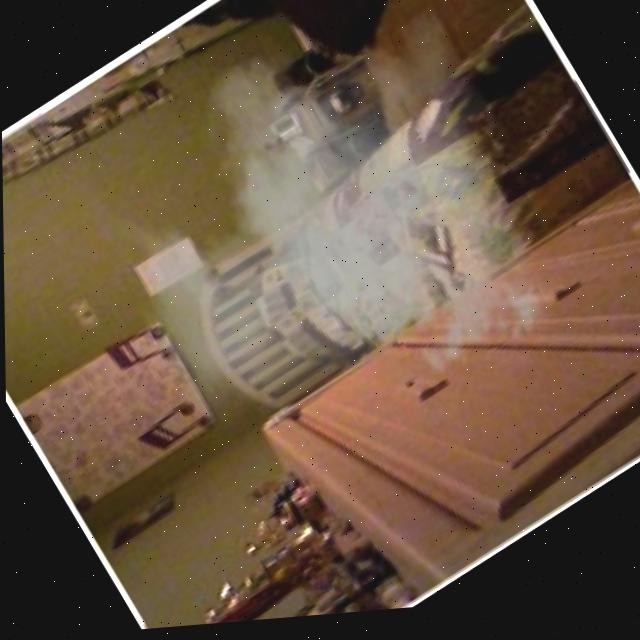Smoke: (44, 0, 606, 528)
